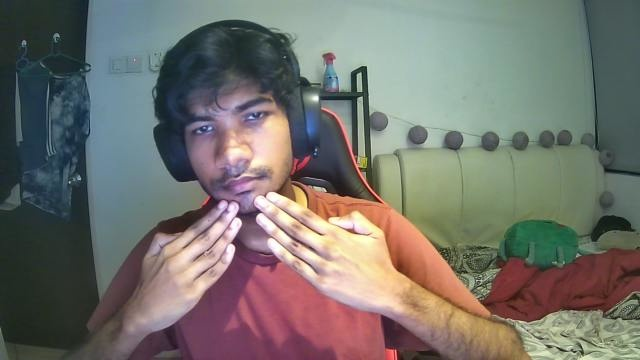Thank You: (137, 188, 392, 330)
